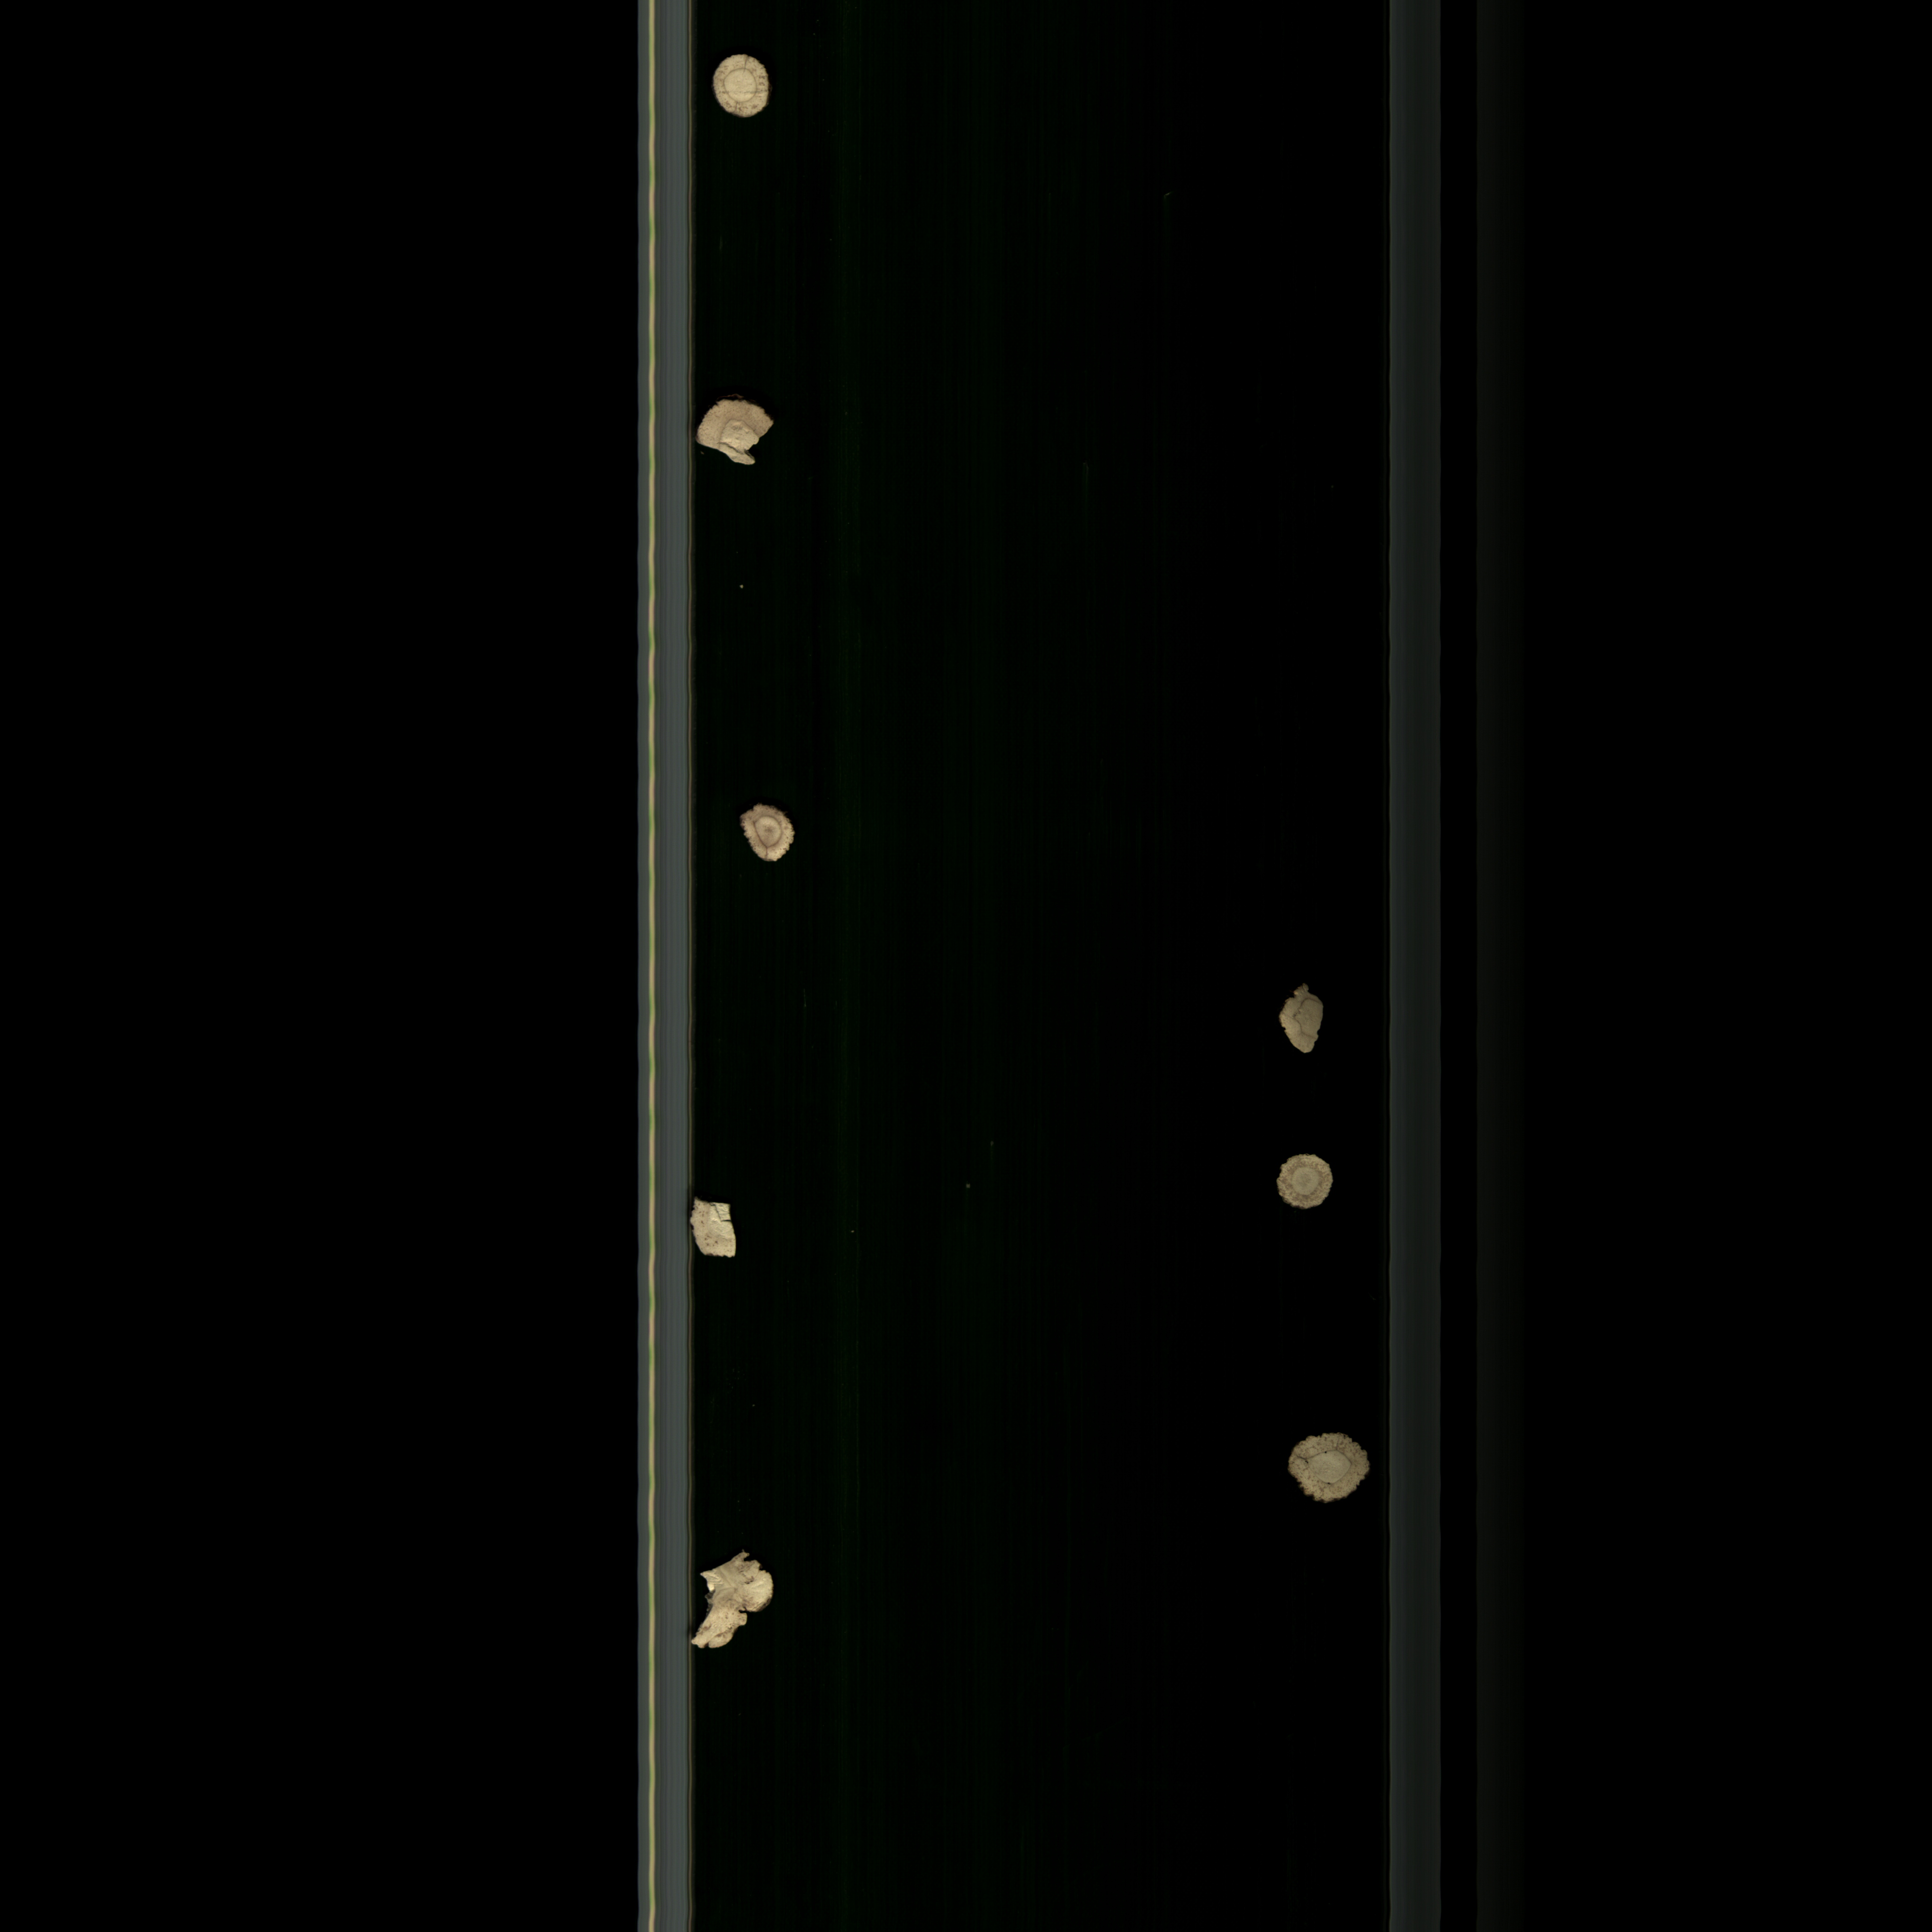debris: (685, 1541, 786, 1658), (694, 393, 787, 481), (678, 1185, 755, 1274)
dreg: (1274, 978, 1339, 1063)
moldy: (1272, 1424, 1382, 1509), (727, 794, 810, 883), (1267, 1146, 1348, 1214)
